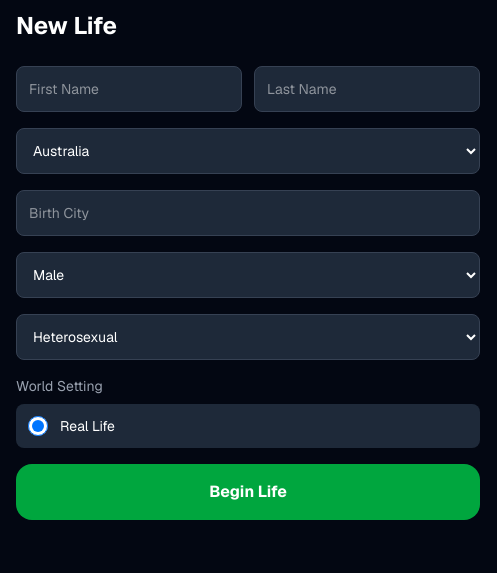
Test case: NewLifePage › shows the API error on a 403
In the field with placeholder "First Name": (129, 89) x1=16 y1=66 x2=242 y2=112, type "Sam"
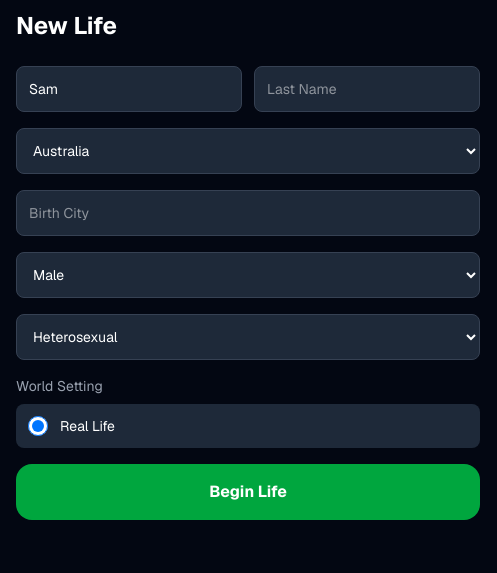
In the field with placeholder "Last Name": (367, 89) x1=254 y1=66 x2=480 y2=112, type "Lee"
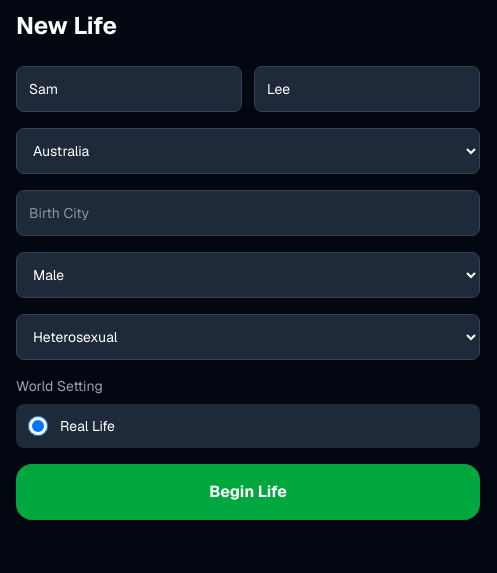
In the field with placeholder "Birth City": (248, 213) x1=16 y1=190 x2=480 y2=236, type "Sydney"
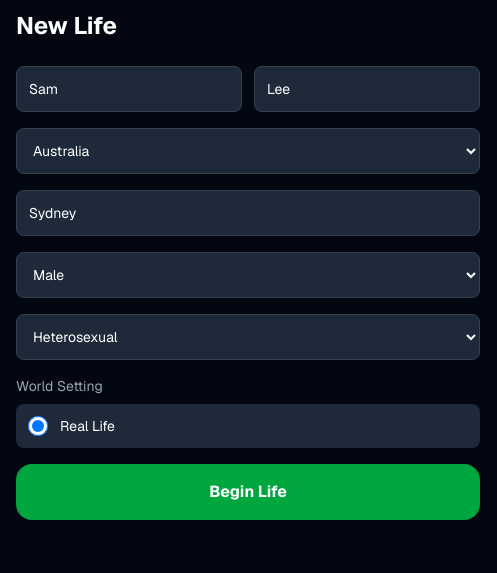
Click the button "Begin Life": (248, 492) x1=16 y1=464 x2=480 y2=520
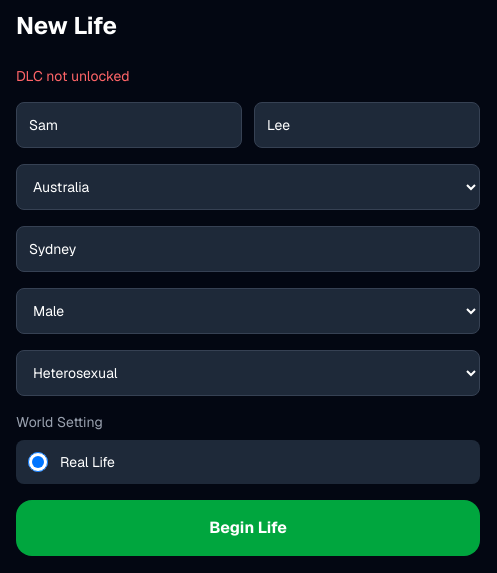
expect the text "DLC not unlocked" is shown: met, box x1=16 y1=67 x2=130 y2=85
